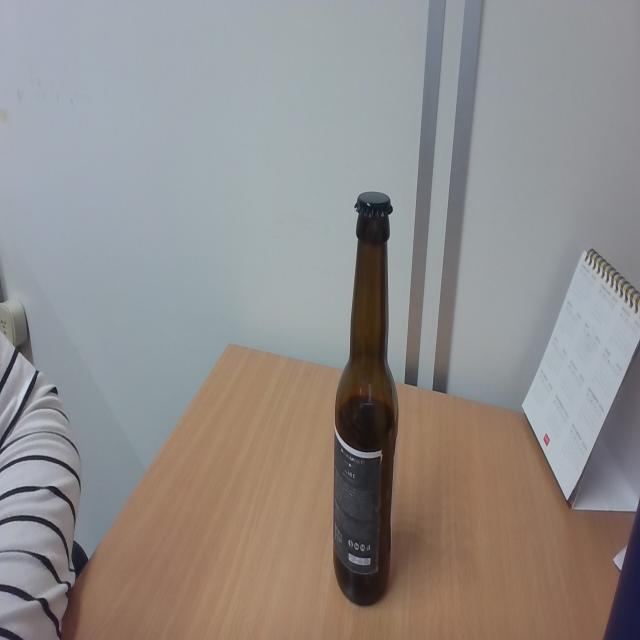Bottle: (334, 190, 399, 608)
Cap: (351, 191, 395, 221)
Label: (336, 442, 382, 576)
